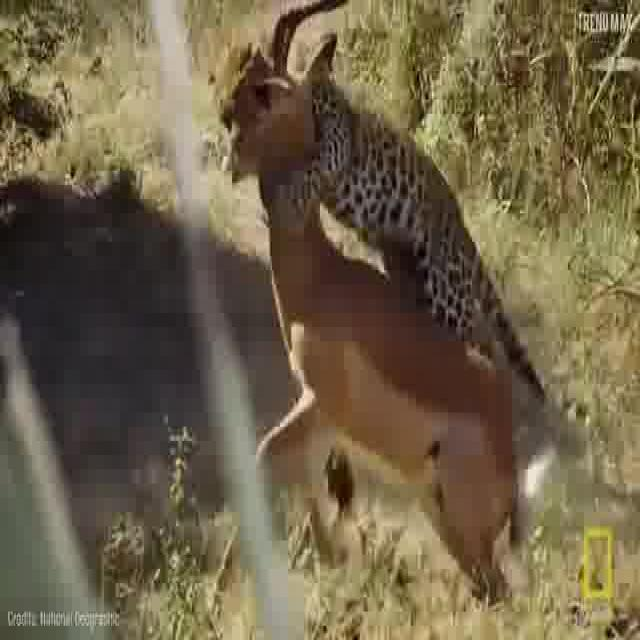Jaguar: (276, 31, 560, 406)
